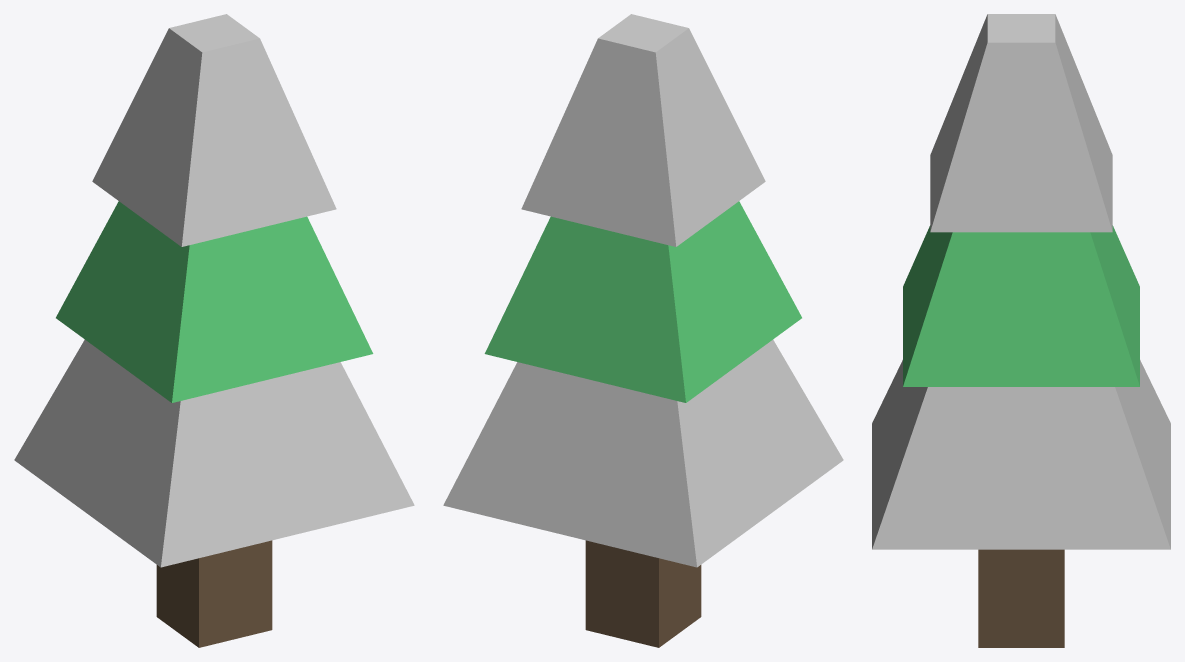
Rendered from Tree - Pine.fbx.
The picture shows the model from 3 angles, left to right: view 1: azimuth 30°, elevation 25°; view 2: azimuth 150°, elevation 25°; view 3: azimuth 270°, elevation 25°; orthographic projection.
Parts seen in each view (by area): view 1: Cube.003; view 2: Cube.003; view 3: Cube.003.
Part boxes in pixels (x1,y1,x2,y2): Cube.003: [14, 14, 414, 647]; Cube.003: [443, 14, 843, 647]; Cube.003: [872, 14, 1170, 647].
Bounding box in the file's own units: 347 × 770 × 347.
